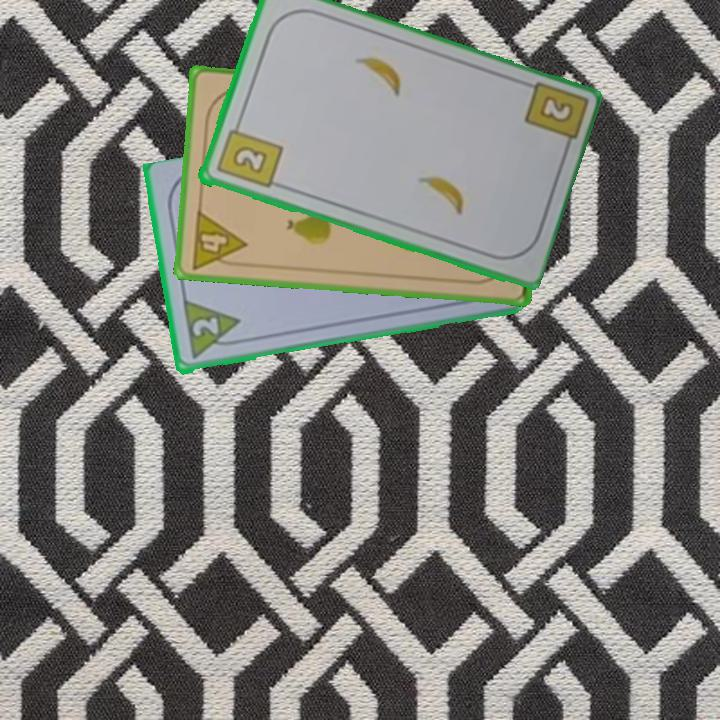2b: (212, 117, 284, 192), (535, 92, 573, 124)
2p: (188, 314, 221, 340)
4p: (188, 207, 249, 272)
